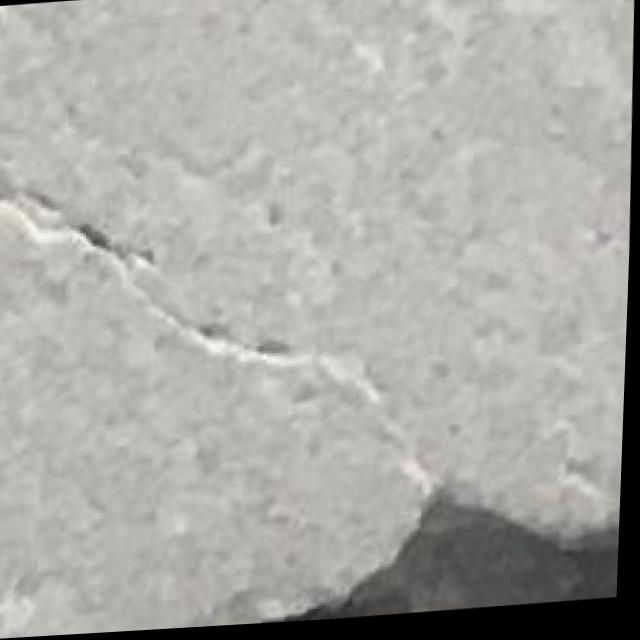Crack: (0, 122, 636, 640)
